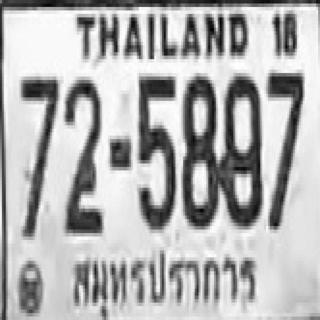N02: (63, 75, 101, 228)
N05: (137, 73, 174, 226)
N07: (19, 71, 58, 235), (266, 70, 303, 226)
N08: (181, 73, 220, 226)
N09: (219, 71, 261, 224)
P57: (66, 240, 256, 320)
